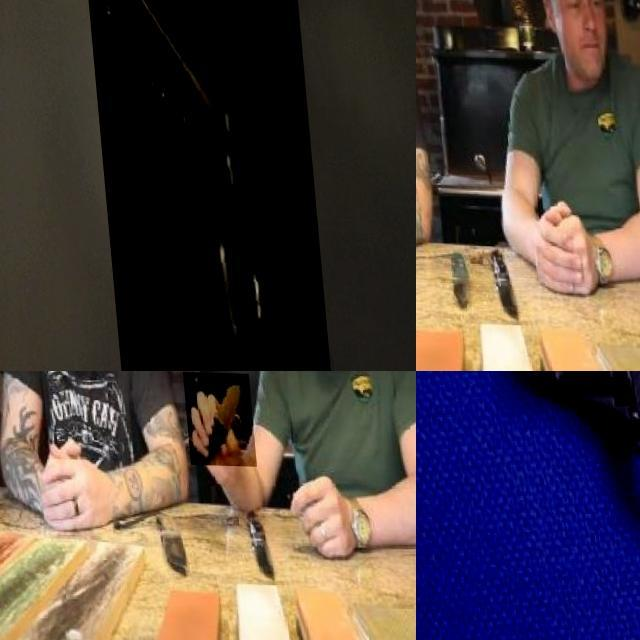-: (416, 31, 467, 186), (177, 371, 249, 464)
gun-knife-thesis - v11 Yolov5 augmented: (74, 0, 324, 371), (416, 371, 640, 640)
